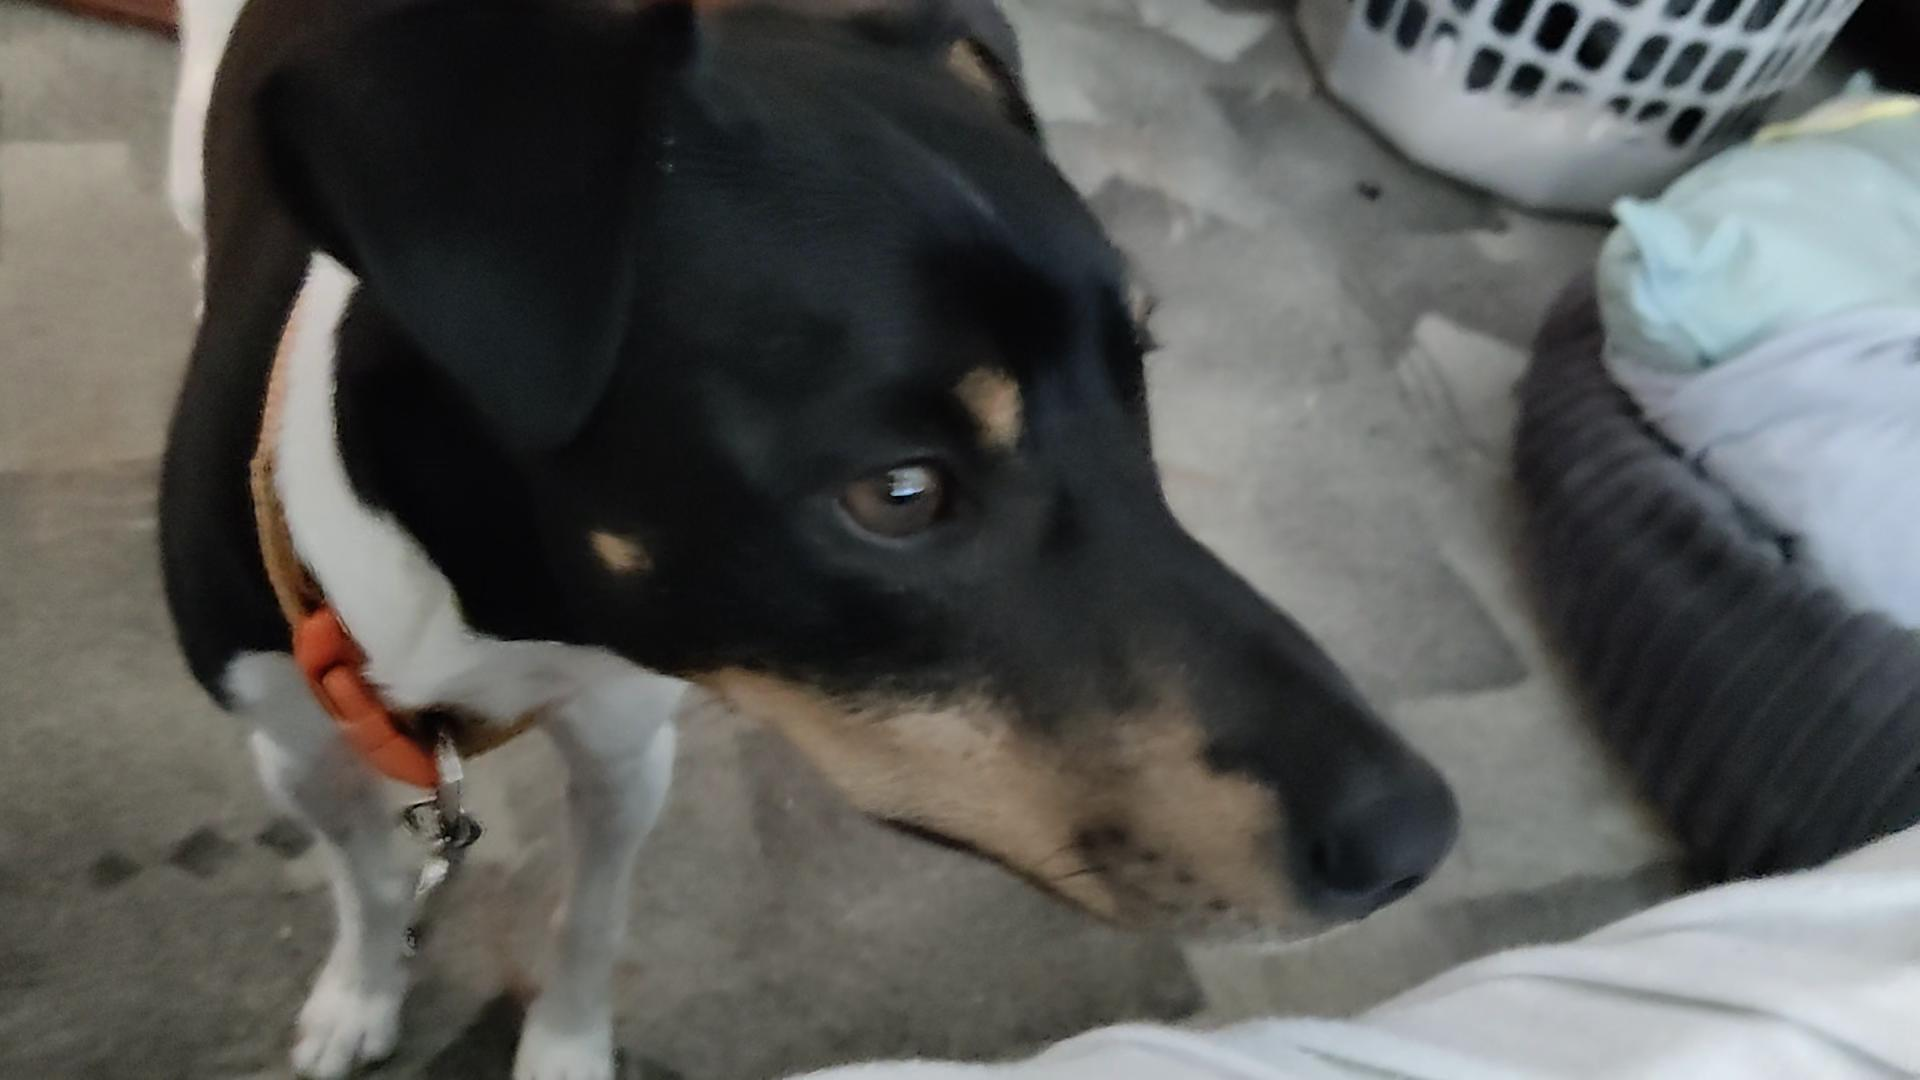Dog: (112, 0, 1478, 1080)
